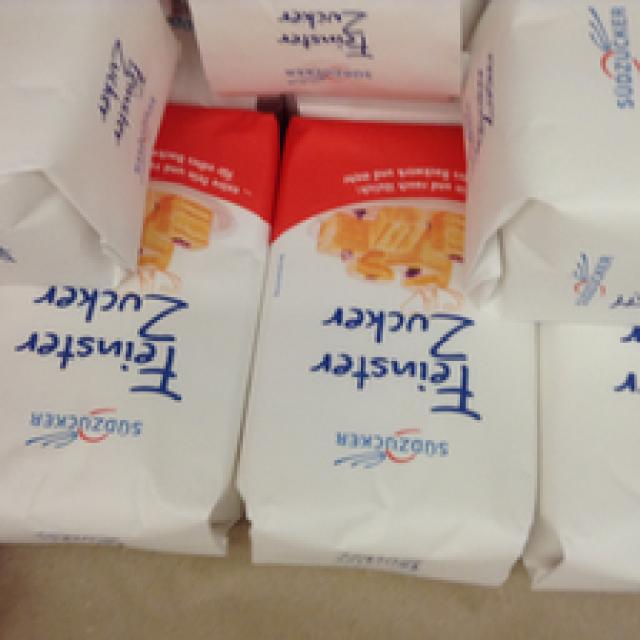groceries: (226, 106, 537, 583), (0, 97, 269, 554)
